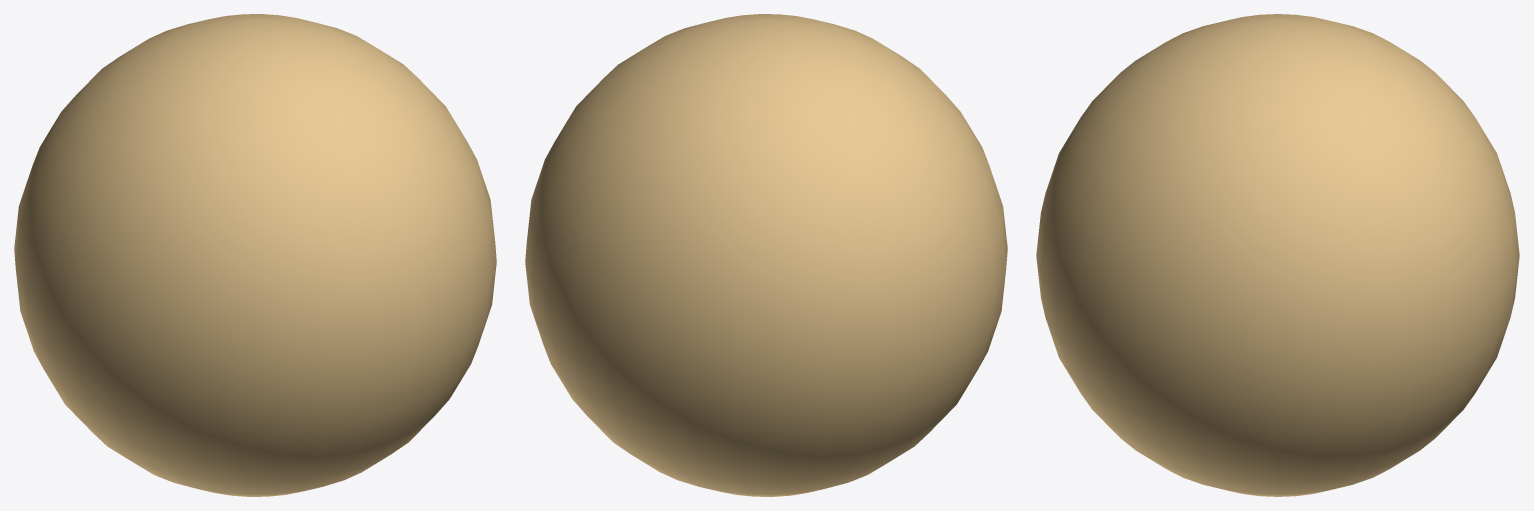
The model's file is CharacterHead_01.FBX.
3 renders of one model, left to right at view 1: azimuth 30°, elevation 25°; view 2: azimuth 150°, elevation 25°; view 3: azimuth 270°, elevation 25°, orthographic.
Visible parts, largest first — view 1: Character_Head01; view 2: Character_Head01; view 3: Character_Head01.
Part boxes in pixels (left/top/right/bottom): Character_Head01: left=14, top=14, right=496, bottom=496; Character_Head01: left=525, top=14, right=1007, bottom=496; Character_Head01: left=1036, top=14, right=1519, bottom=496.
Size of the model in its own units: 56.52 by 54.37 by 56.52.
